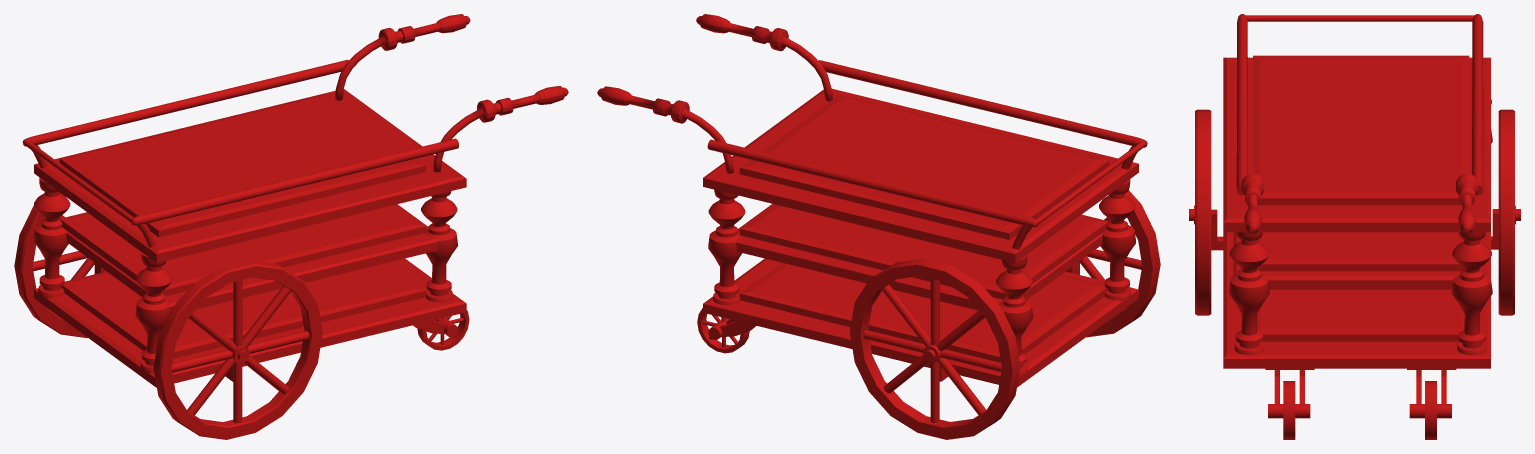
Rendered from cart.FBX.
3 views of the same model, side by side, from view 1: azimuth 30°, elevation 25°; view 2: azimuth 150°, elevation 25°; view 3: azimuth 270°, elevation 25° (orthographic). The views are drawn at different scales.
Parts seen in each view (by area): view 1: Object029; view 2: Object029; view 3: Object029.
Boxes of the visible parts, x1,y1,x2,y2 form: Object029: [14, 14, 568, 439]; Object029: [597, 14, 1160, 439]; Object029: [1189, 14, 1520, 439].
Size of the model in its own units: 84.38 by 46.23 by 50.47.
